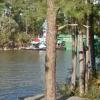Tree: (9, 2, 100, 52)
